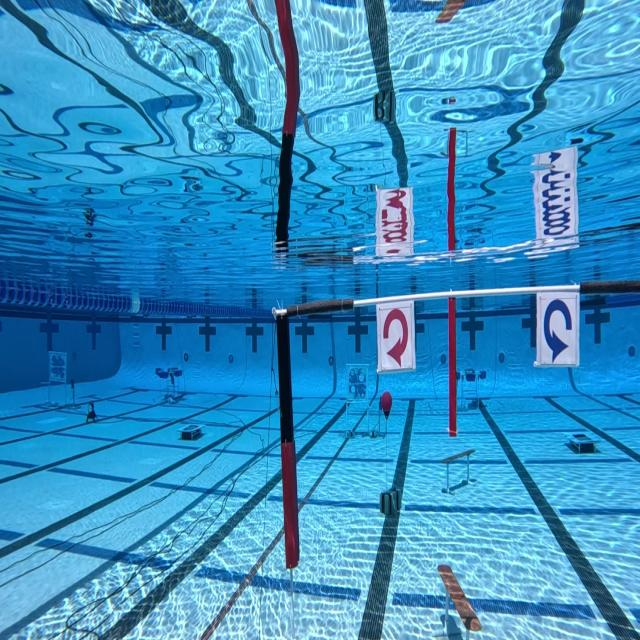blue_side: (538, 293, 582, 368)
red_side: (376, 303, 416, 376)
